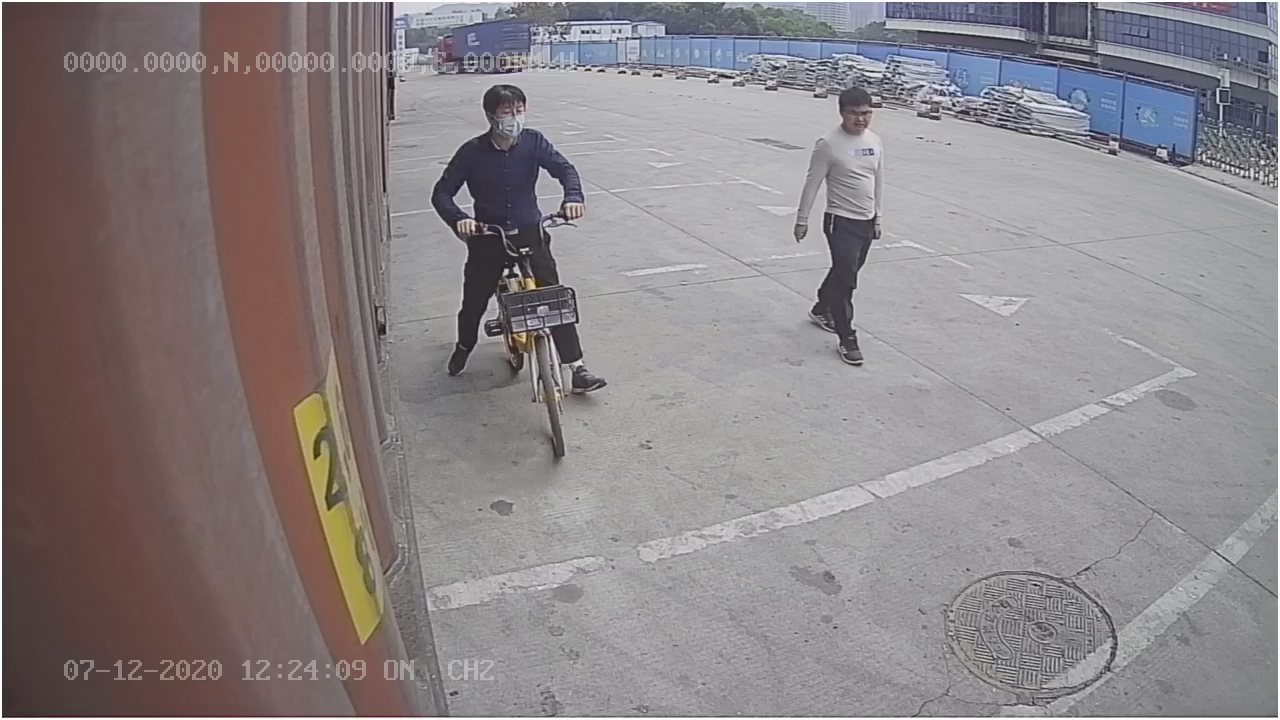person: (785, 82, 892, 376)
